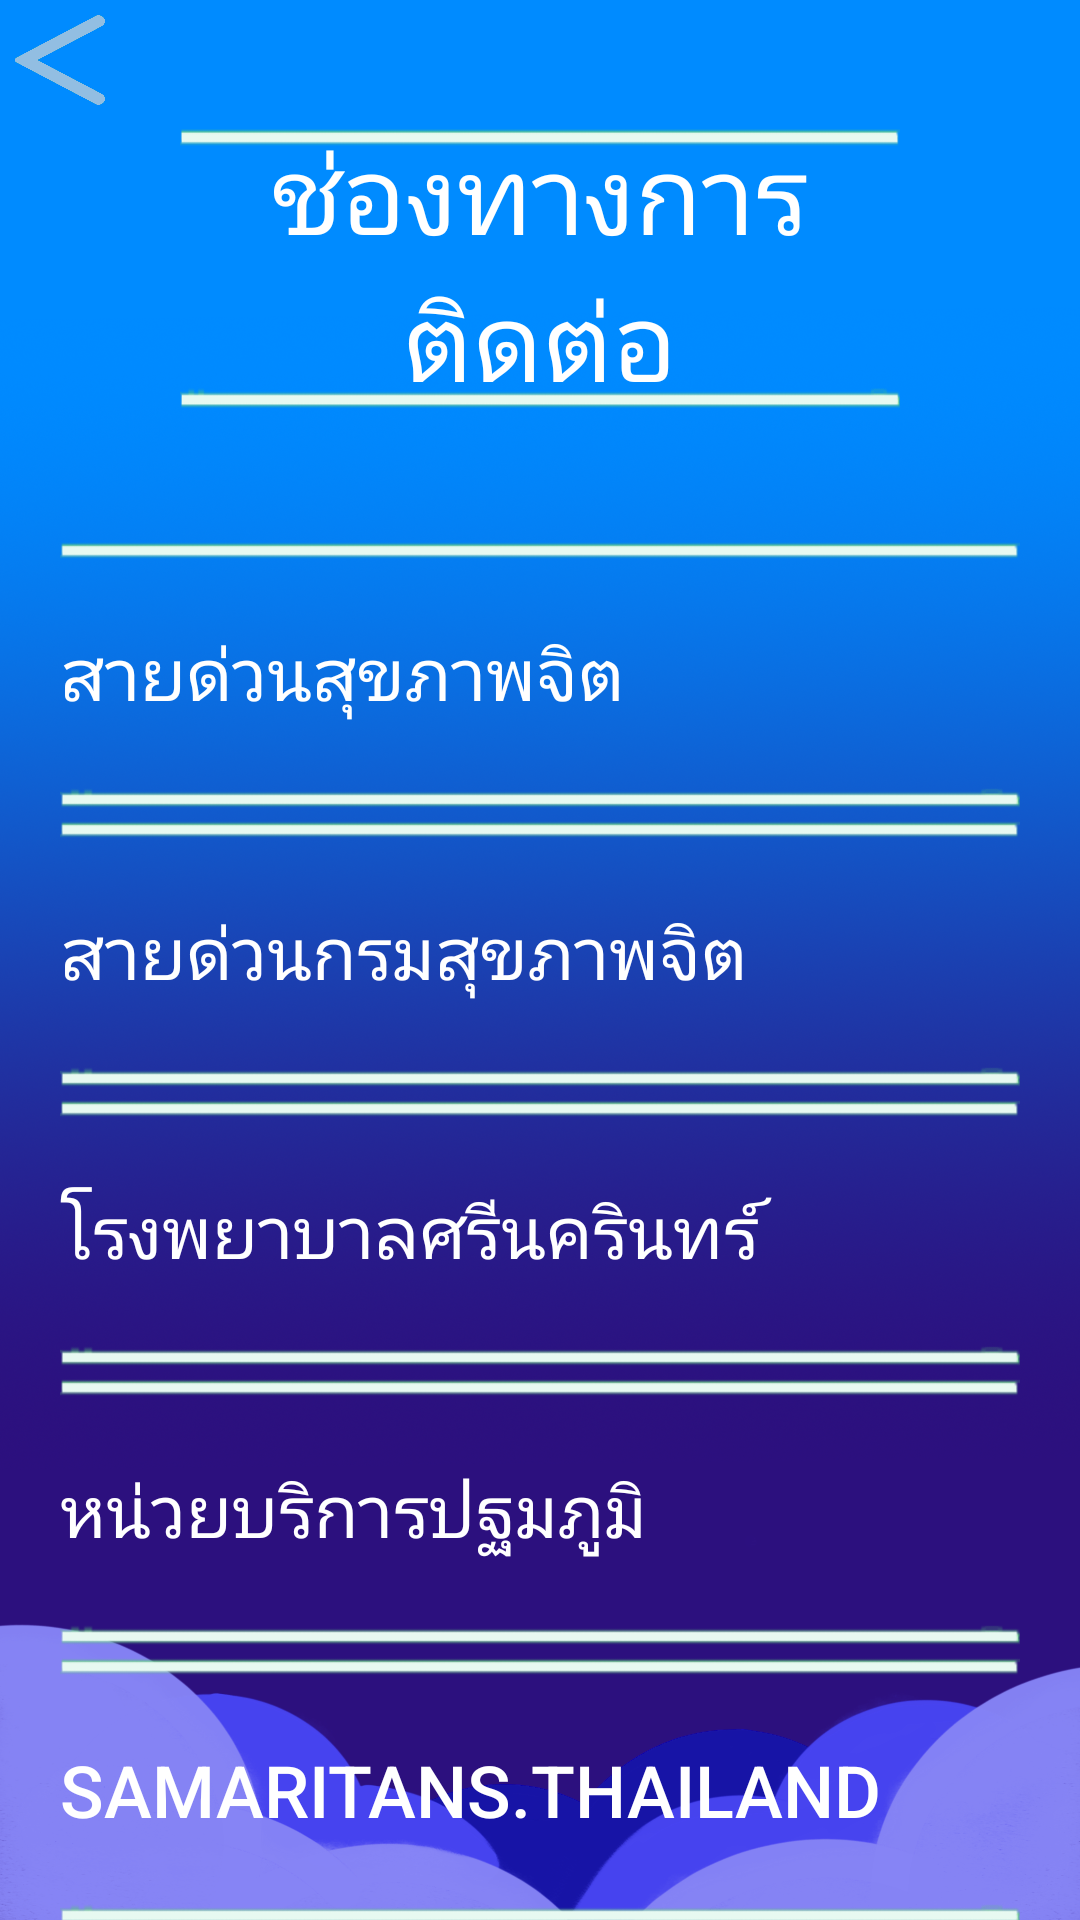

Icon click points for this 1080×1920 phone screenshot, format [x,y]:
backbut: [60,60]
